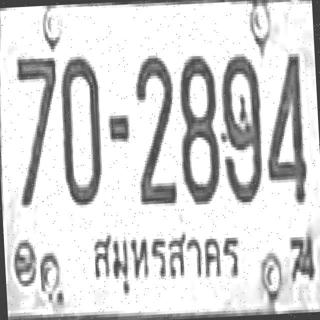N00: (58, 51, 104, 204)
N02: (132, 52, 178, 205)
N04: (262, 49, 308, 205)
N07: (13, 52, 62, 205)
N08: (174, 52, 220, 202)
N09: (218, 53, 264, 203)
P58: (86, 215, 246, 298)
